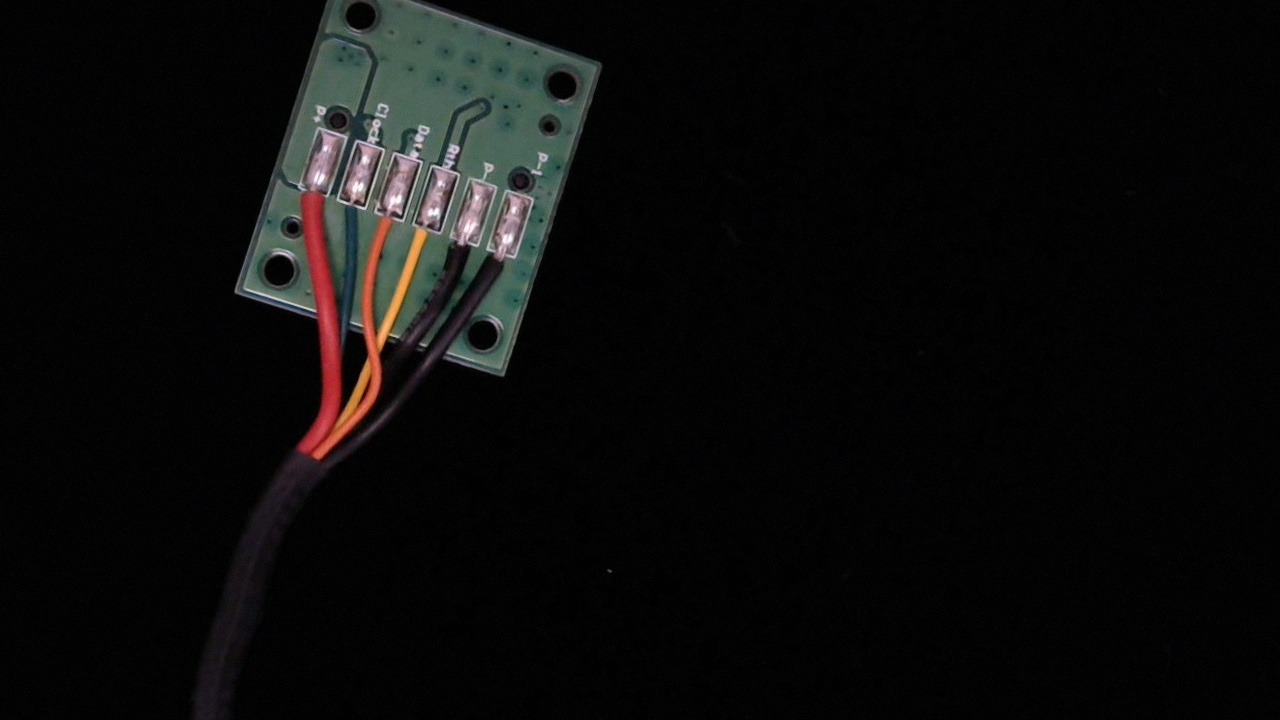Black: (432, 221, 482, 294)
Black1: (471, 236, 523, 309)
Green: (322, 183, 373, 251)
Orange: (360, 195, 408, 263)
Red: (281, 170, 334, 247)
Yellow: (398, 209, 444, 279)
